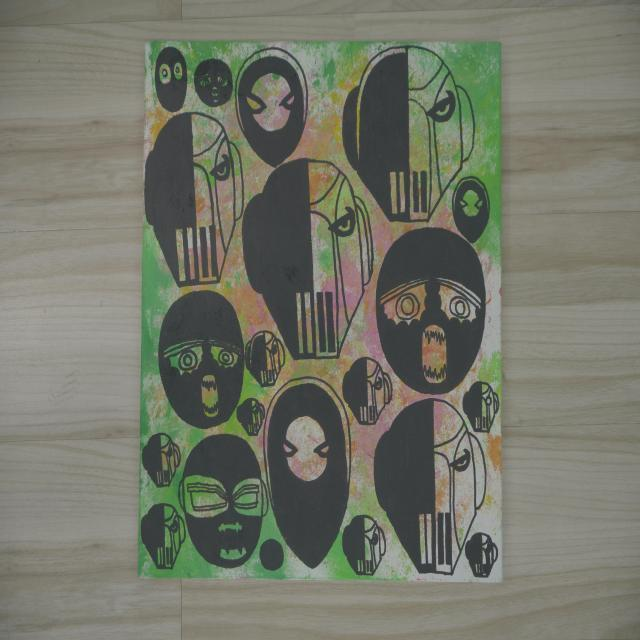painting: (139, 42, 501, 581)
